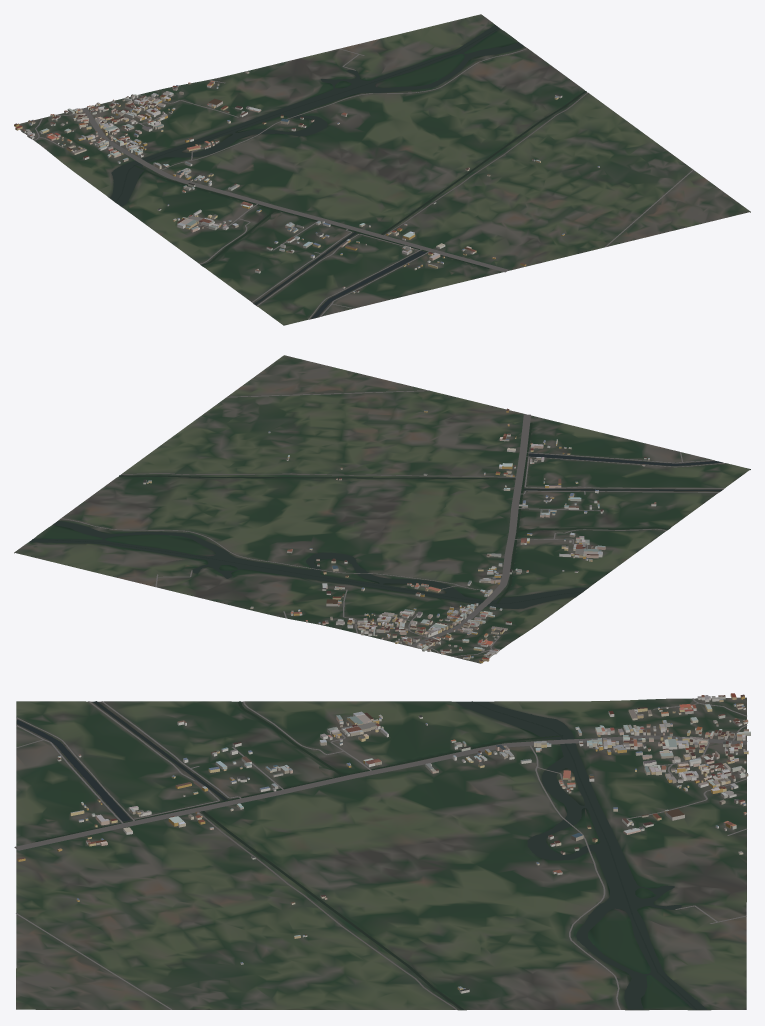
The picture shows the model from 3 angles, top to bottom: view 1: azimuth 30°, elevation 25°; view 2: azimuth 150°, elevation 25°; view 3: azimuth 270°, elevation 25°; orthographic projection. The views are drawn at different scales.
Parts seen in each view (by area): view 1: ground, water, buildings, roads; view 2: ground, water, buildings, roads; view 3: ground, water, buildings, roads.
Part boxes in pixels (x1,y1,x2,y2): ground: (14, 14, 750, 325); water: (110, 25, 586, 318); buildings: (14, 71, 599, 293); roads: (34, 48, 693, 319); ground: (14, 355, 750, 663); water: (29, 422, 722, 608); buildings: (143, 408, 656, 663); roads: (61, 390, 725, 656); ground: (16, 697, 746, 1010); water: (17, 701, 707, 1010); buildings: (17, 693, 750, 993); roads: (14, 698, 747, 1009).
Bounding box in the file's own units: 1410 × 19.64 × 1413.
